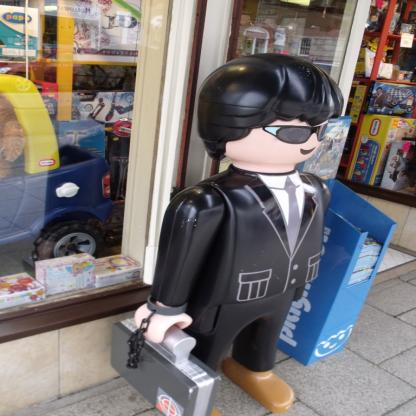Helmet: (195, 55, 343, 163)
